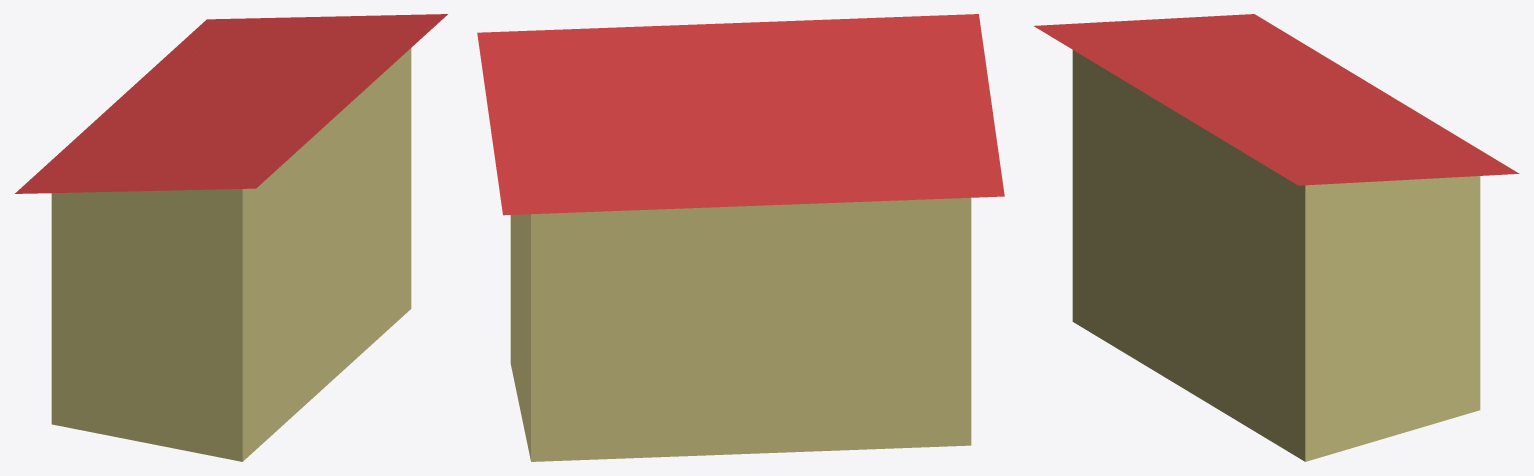
3 renders of one model, left to right at view 1: azimuth 30°, elevation 25°; view 2: azimuth 150°, elevation 25°; view 3: azimuth 270°, elevation 25°, orthographic. The views are drawn at different scales.
Bounding box in the file's own units: 9.4 × 8.58 × 5.7.
